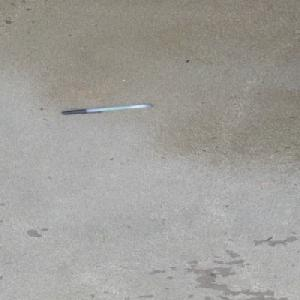Pen: (60, 102, 152, 114)
